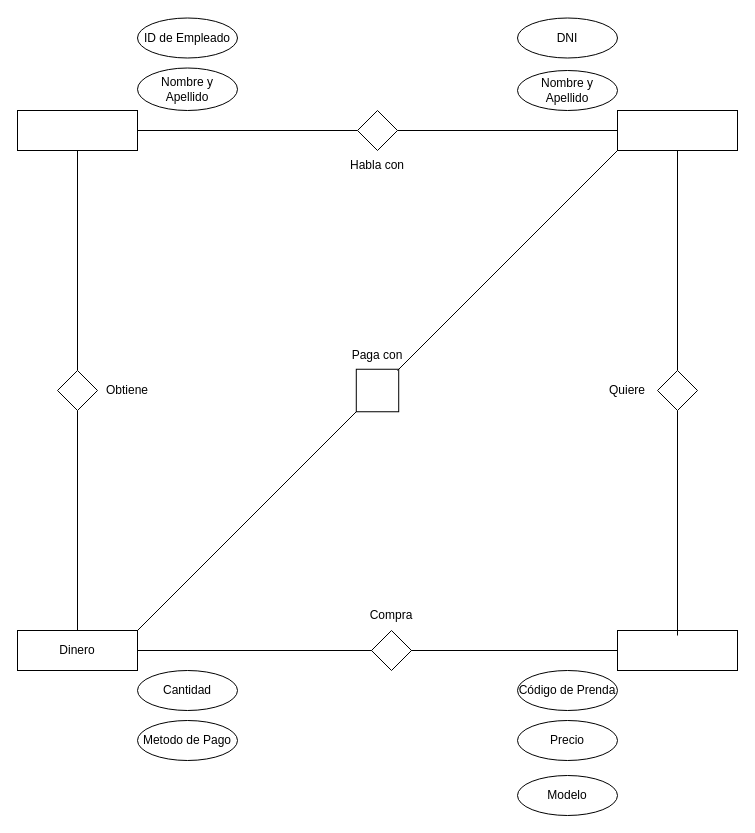
This 755x833 diagram has some shape labels left out. The shapes that lost their labels are listed below. From the top down, each one's centre as x and y in pixels, then its label:
(77,130): Empleado
(677,130): Cliente
(677,650): Prenda de Ropa
